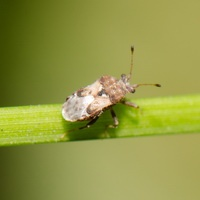insect: (62, 46, 160, 126)
